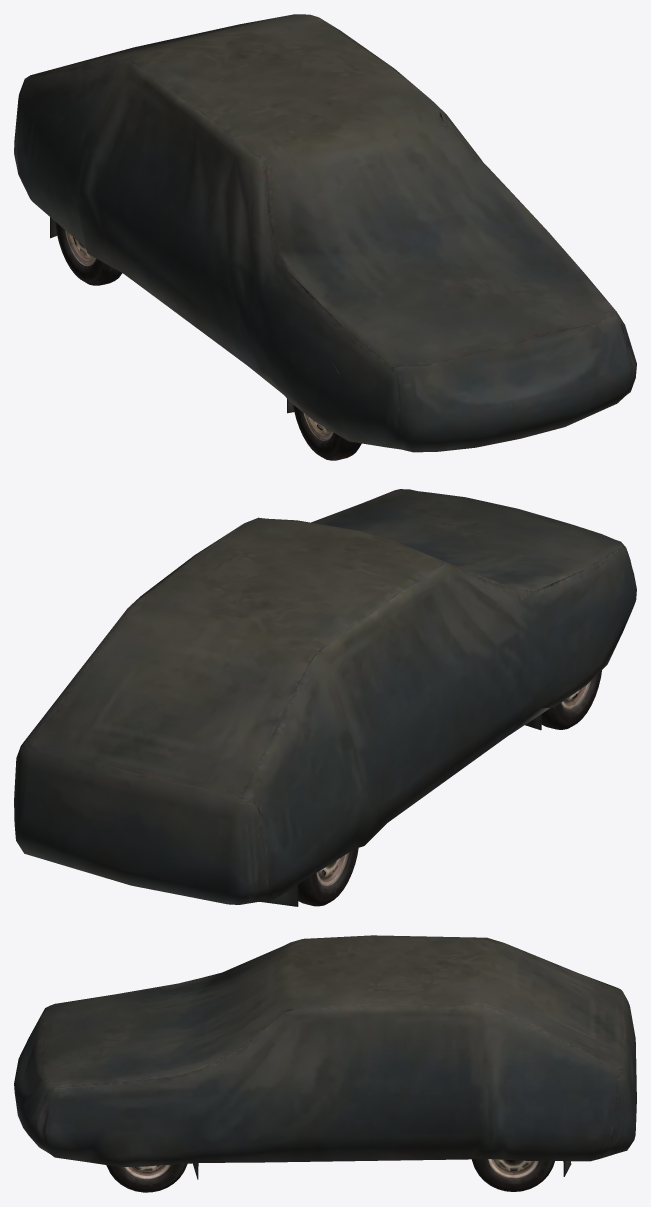
Rendered from covered_car.glb.
3 renders of one model, top to bottom at view 1: azimuth 30°, elevation 25°; view 2: azimuth 150°, elevation 25°; view 3: azimuth 270°, elevation 25°, orthographic. The views are drawn at different scales.
Visible parts, largest first — view 1: covered_car, covered_car_wheel_03, covered_car_wheel_02; view 2: covered_car, covered_car_wheel_03, covered_car_wheel_02; view 3: covered_car, covered_car_wheel_04, covered_car_wheel_01.
Boxes of the visible parts, left/top/right/bottom form: covered_car: left=14, top=14, right=636, bottom=452; covered_car_wheel_03: left=55, top=222, right=122, bottom=285; covered_car_wheel_02: left=293, top=405, right=361, bottom=460; covered_car: left=14, top=489, right=636, bottom=906; covered_car_wheel_03: left=298, top=848, right=358, bottom=906; covered_car_wheel_02: left=541, top=670, right=601, bottom=729; covered_car: left=14, top=935, right=636, bottom=1179; covered_car_wheel_04: left=472, top=1159, right=554, bottom=1191; covered_car_wheel_01: left=106, top=1163, right=187, bottom=1192.
Bounding box in the file's own units: 1.79 × 1.41 × 4.38.
1 material, 1 textured.
